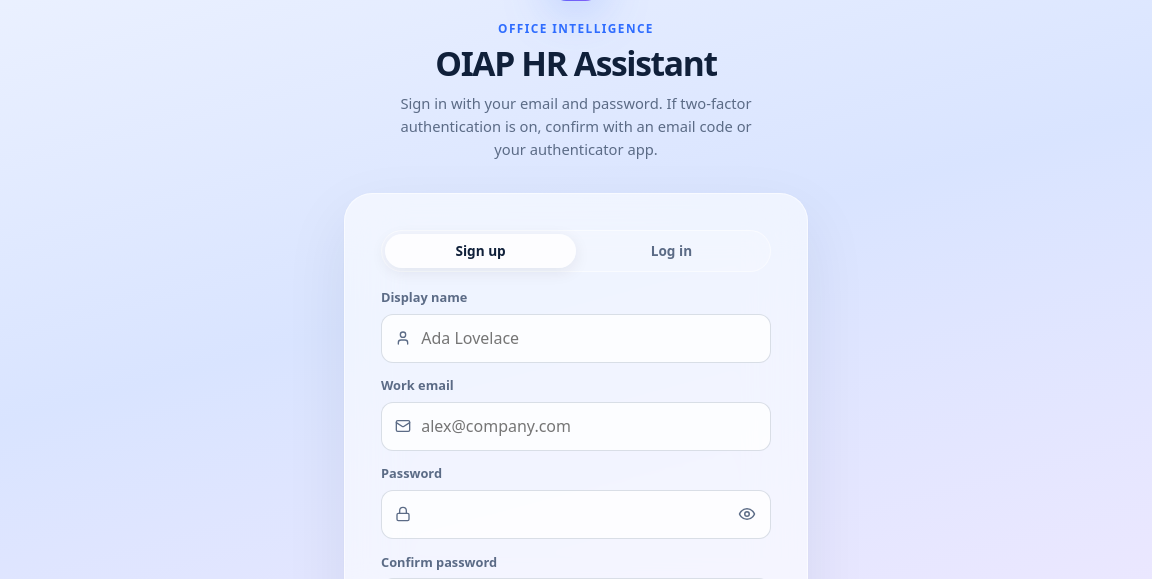
Scenario: authentication › shows the demo OTP after signup
This screenshot has width=1152, height=579.
Step 1. Type "Ada" into the field labelled "Display name" → (576, 338), box [381,314,771,363]
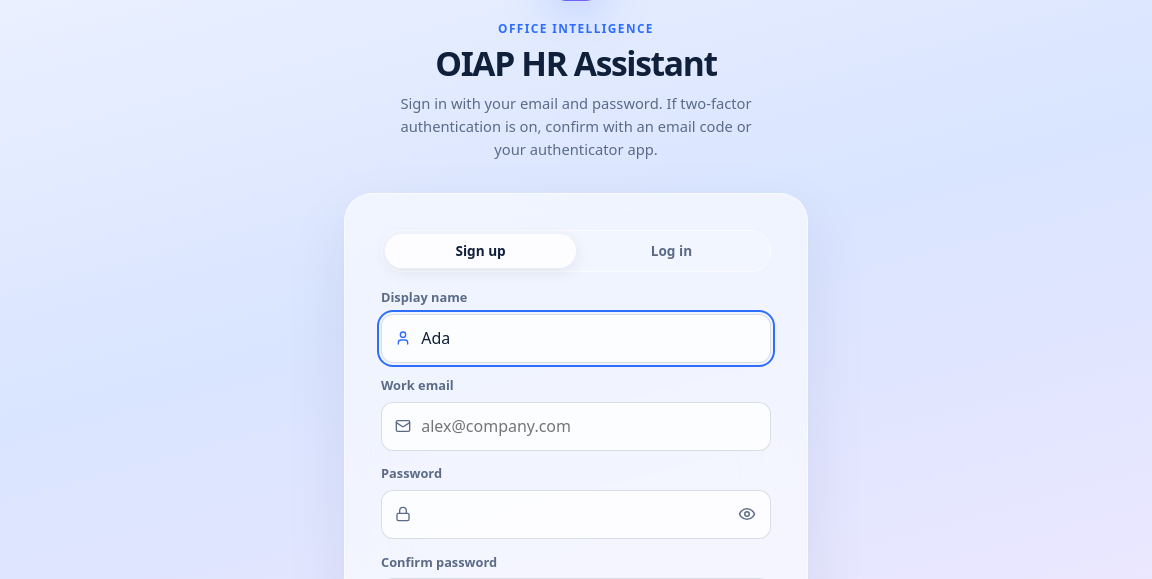
Step 2. Type "ada@example.com" into the field labelled "Work email" → (576, 426), box [381,402,771,451]
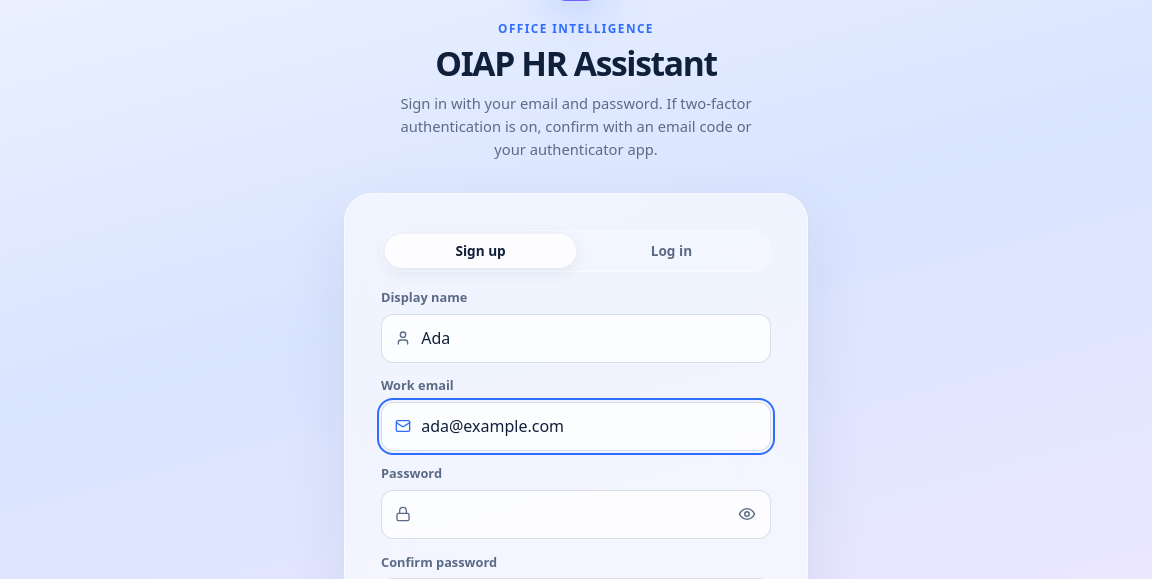
Step 3. Type "Password12!" into the password field labelled "Password" → (576, 514), box [381,490,771,539]
(page scrolled)
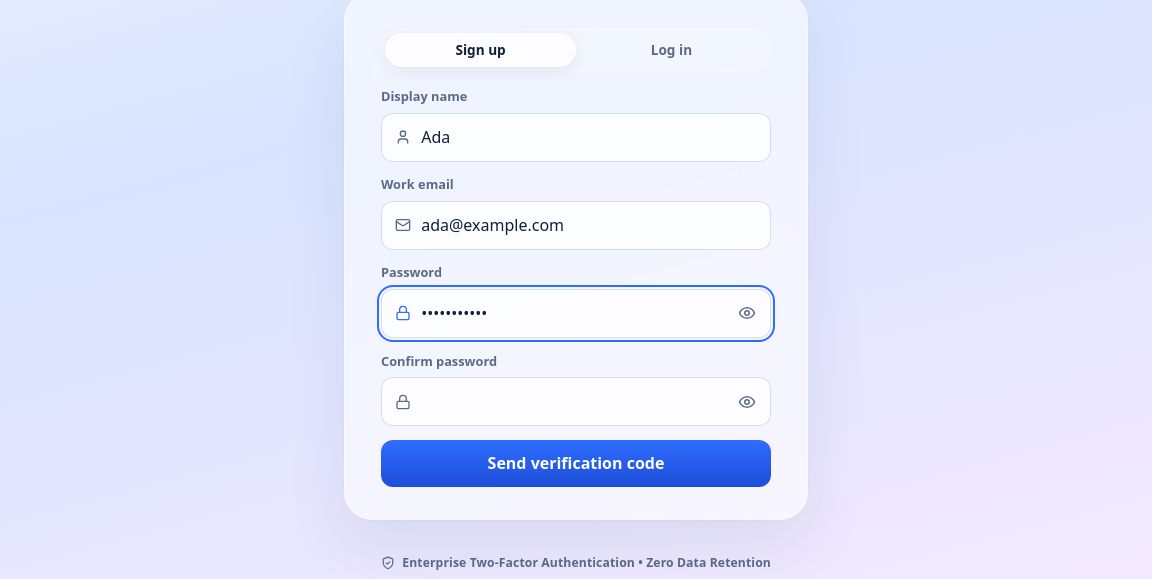
Step 4. Type "Password12!" into the password field labelled "Confirm password" → (576, 402), box [381,377,771,426]
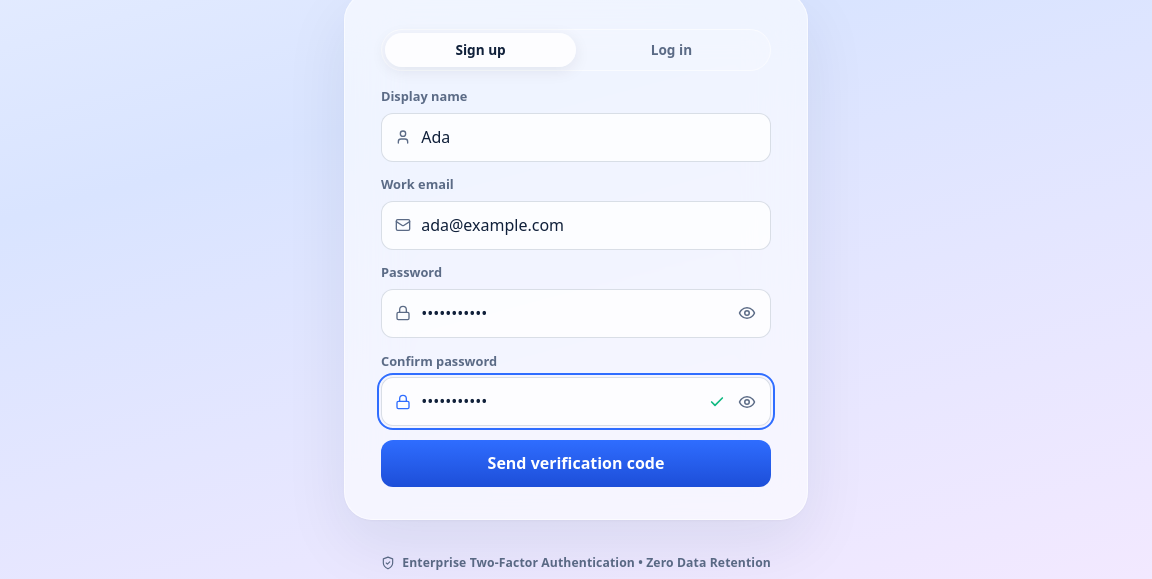
Step 5. Click the button "Send verification code" → (576, 463), box [381,440,771,487]
(page scrolled)
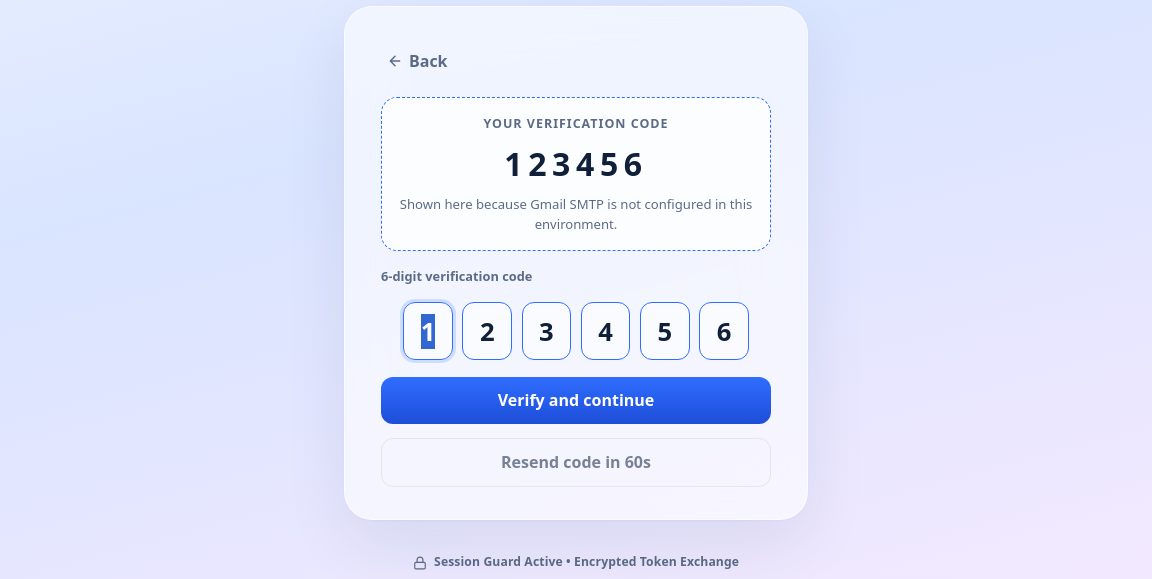
Result: the text "123456" is shown at [504,142,648,185]
Result: the text "Your verification code" is shown at [484,115,669,132]
